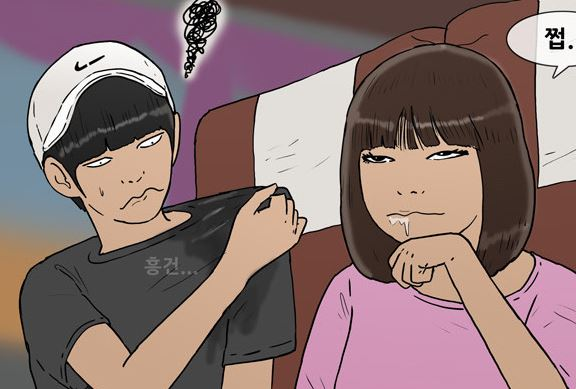hat: (19, 35, 180, 151)
